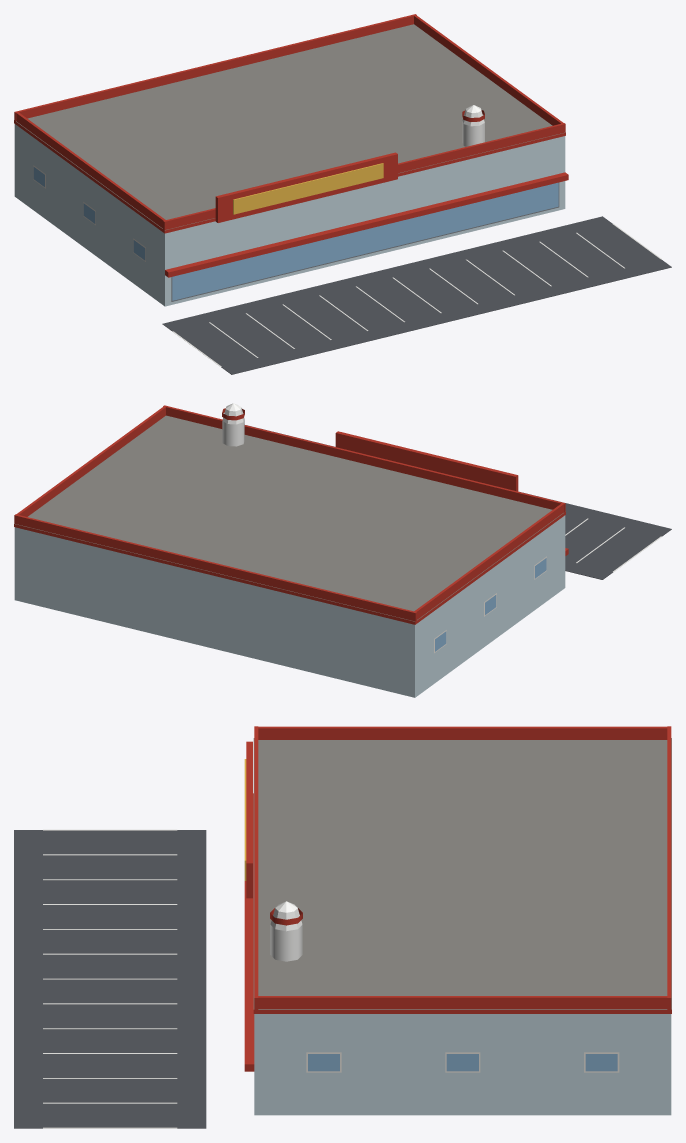
Rendered from bowling.glb.
The picture shows the model from 3 angles, top to bottom: view 1: azimuth 30°, elevation 25°; view 2: azimuth 150°, elevation 25°; view 3: azimuth 270°, elevation 25°; orthographic projection. The views are drawn at different scales.
Parts seen in each view (by area): view 1: bowling; view 2: bowling; view 3: bowling.
Boxes of the visible parts, x1,y1,x2,y2 form: bowling: [14, 14, 671, 374]; bowling: [14, 403, 671, 697]; bowling: [14, 726, 671, 1128].
Size of the model in its own units: 44.12 by 11 by 41.05.
Materials: 1 (1 with a texture image).
